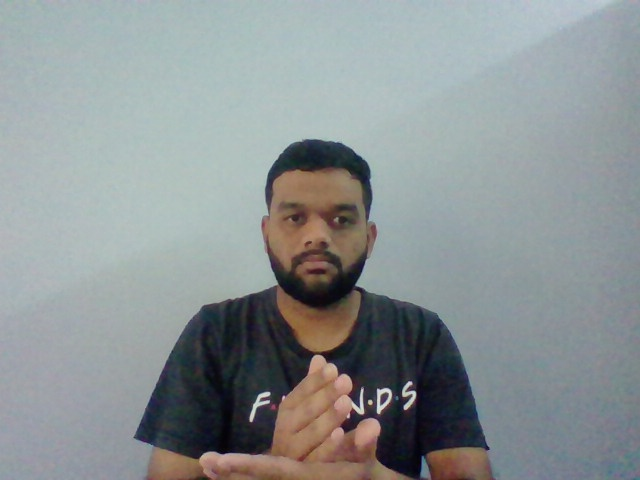Stop: (198, 350, 386, 480)
